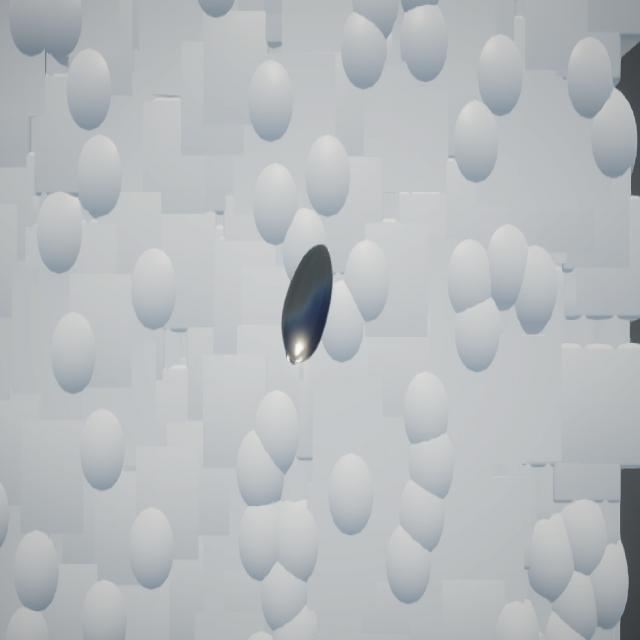top_spoon: (282, 245, 334, 367)
